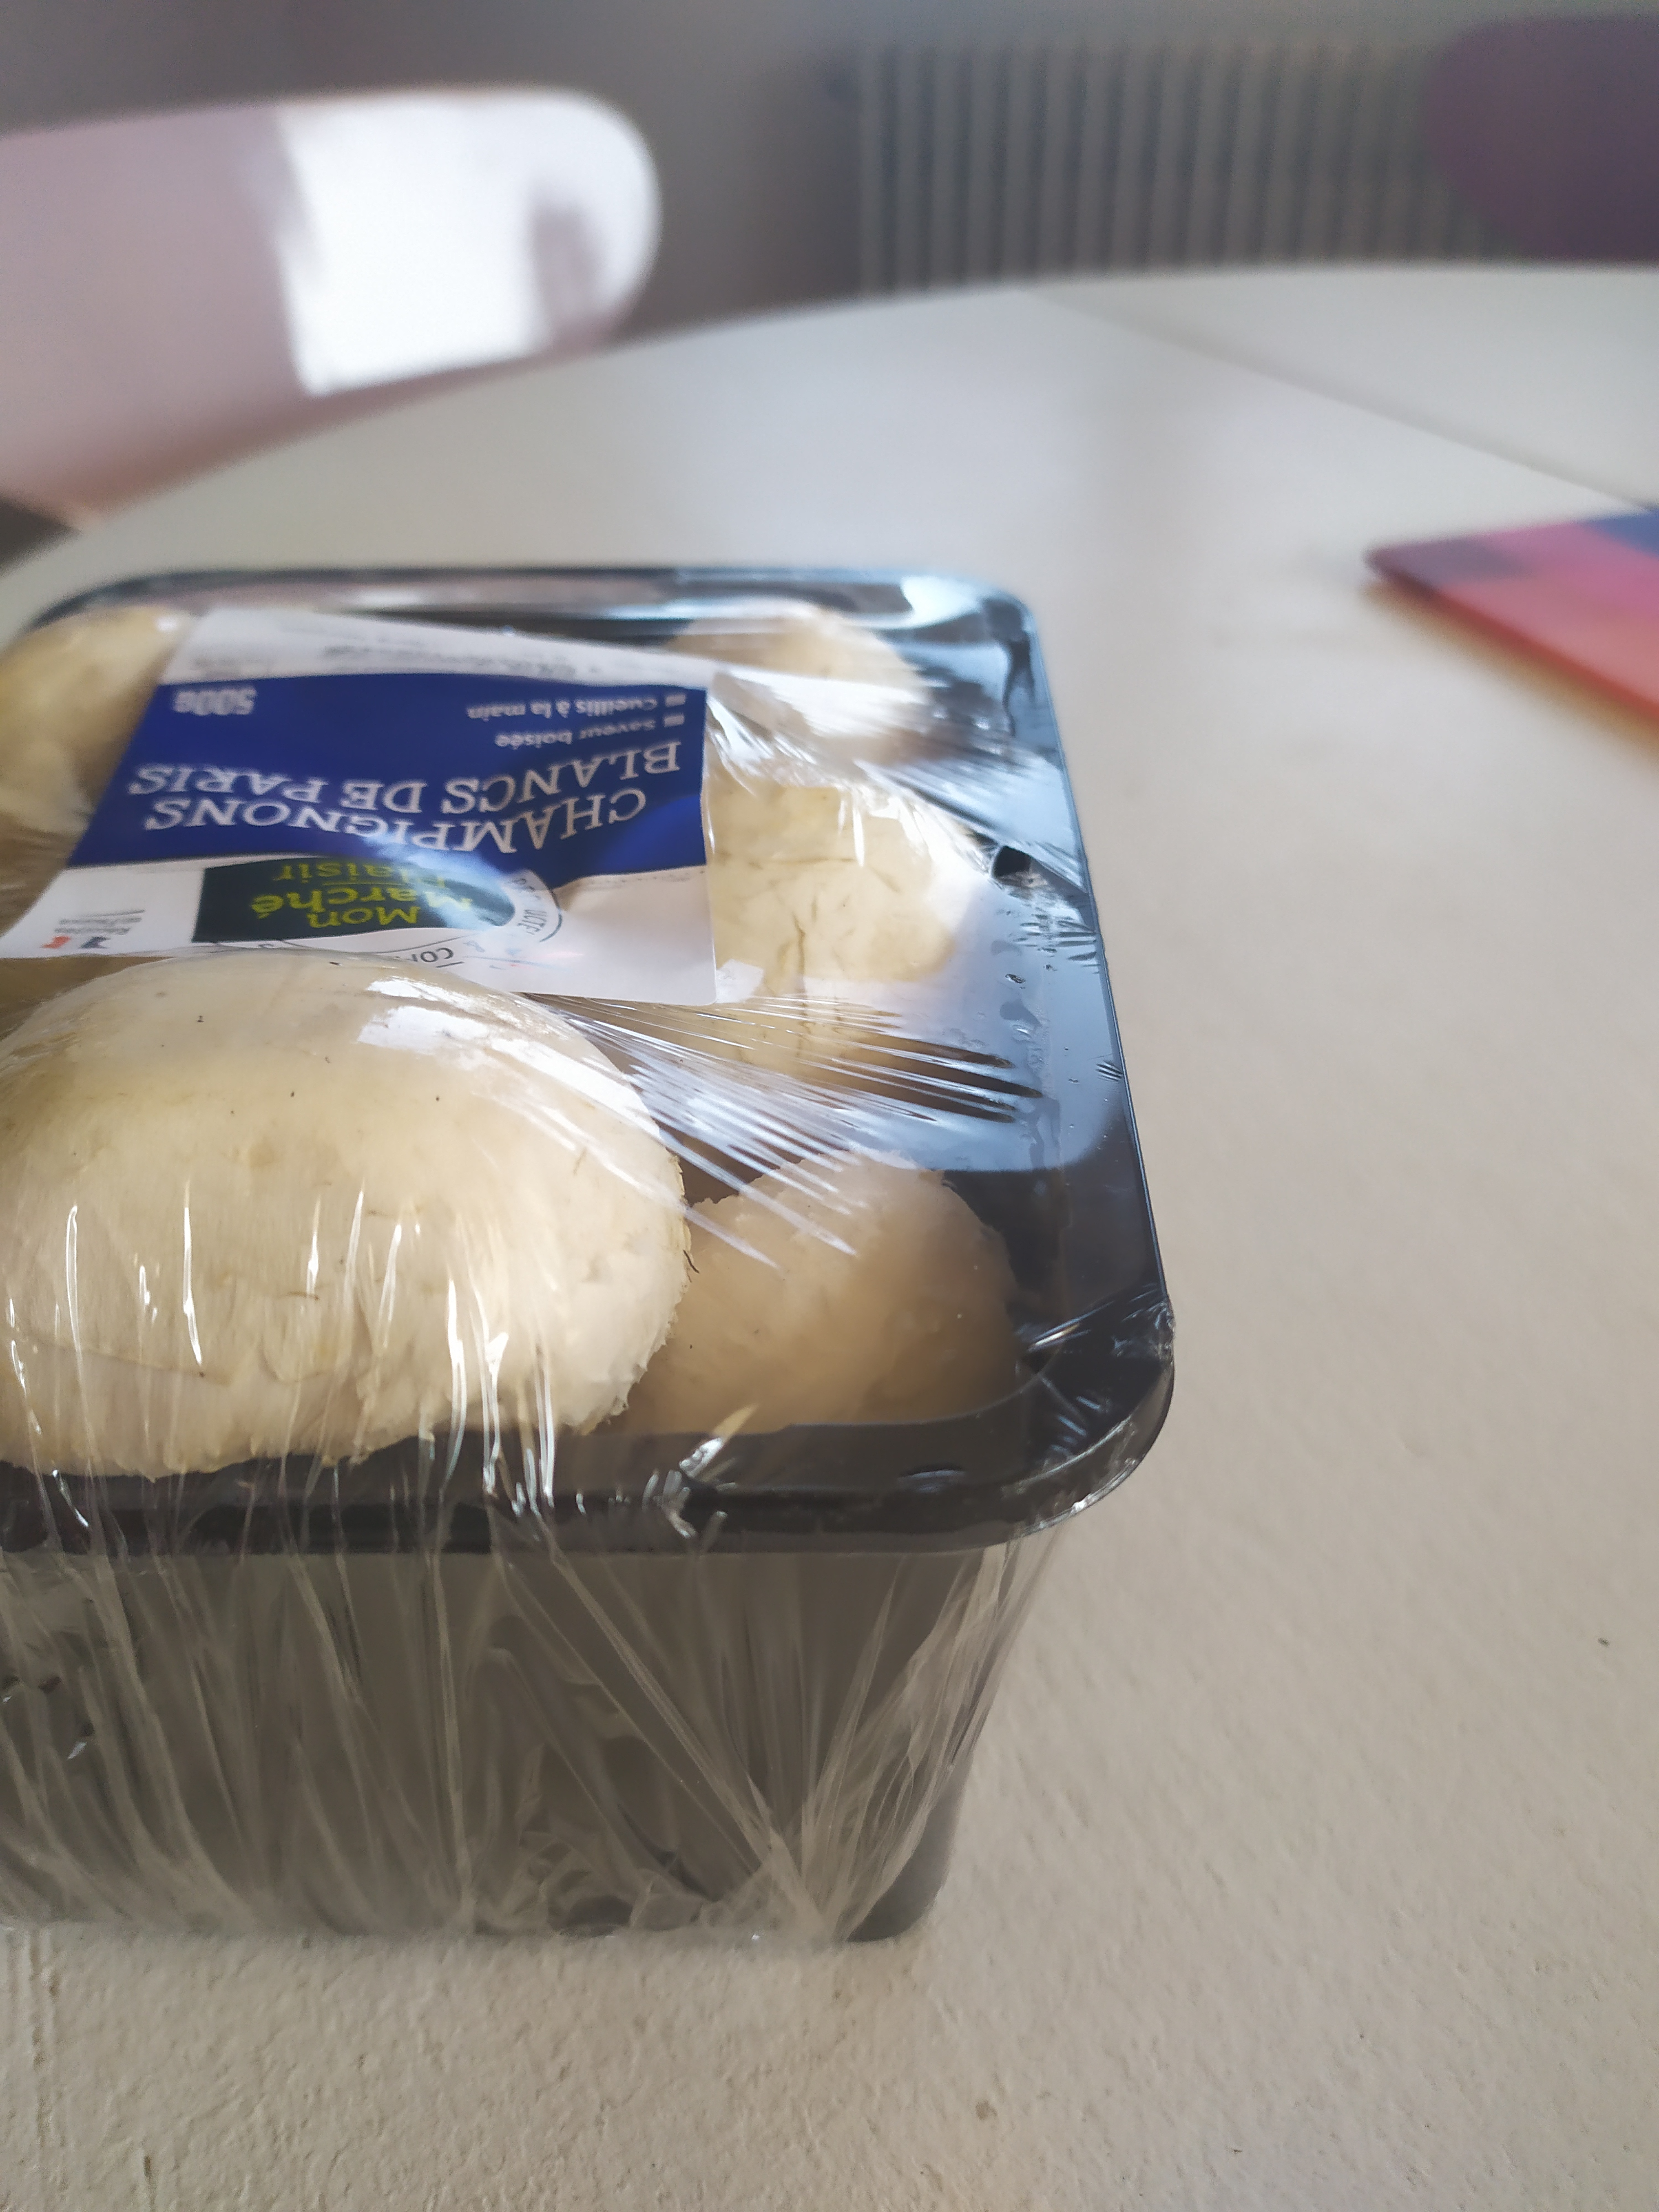mushroom: (0, 550, 1187, 1933)
